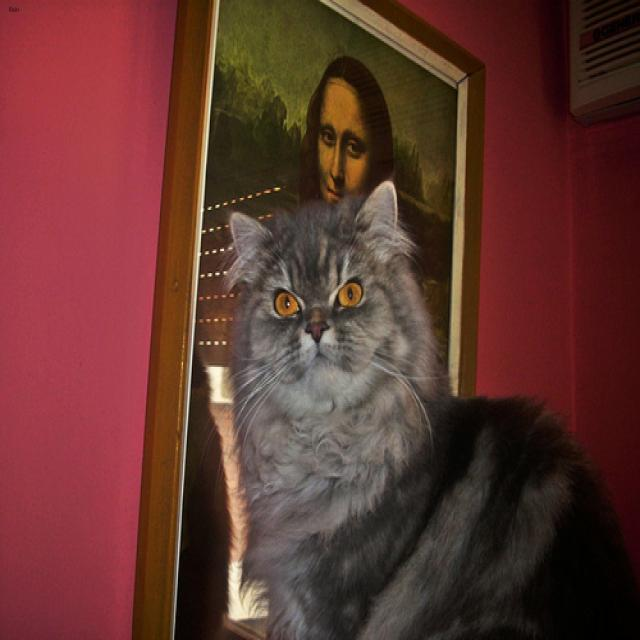Persian: (227, 178, 423, 407)
